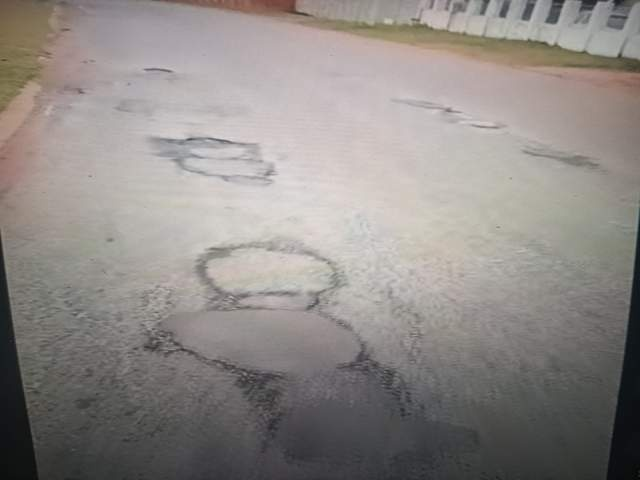pothole: (128, 403, 355, 480)
